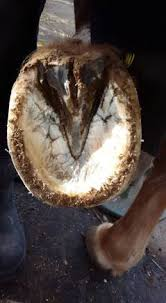horsesole: (7, 58, 142, 210)
